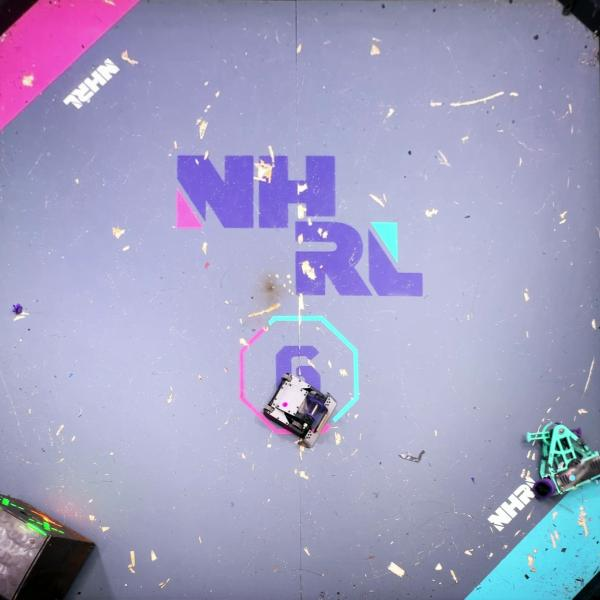housebot: (0, 490, 96, 600)
robot: (525, 419, 600, 501), (262, 370, 336, 446)
